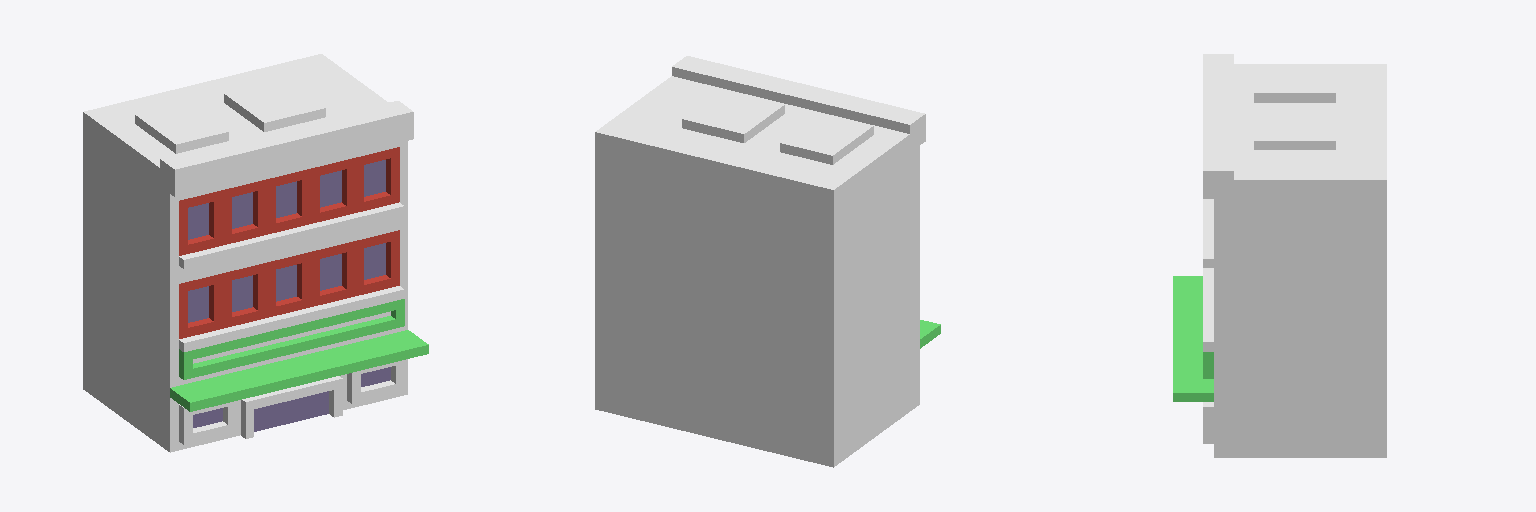
The picture shows the model from 3 angles: view 1: azimuth 30°, elevation 25°; view 2: azimuth 150°, elevation 25°; view 3: azimuth 270°, elevation 25°; orthographic projection.
Parts seen in each view (by area): view 1: Super; view 2: Super; view 3: Super.
Boxes of the visible parts, box(x1,y1,x2,y2) form: Super: box(83, 54, 428, 452); Super: box(595, 56, 940, 467); Super: box(1173, 54, 1386, 457).
Bounding box in the file's own units: 27 × 31 × 21.
Materials: 1 (1 with a texture image).